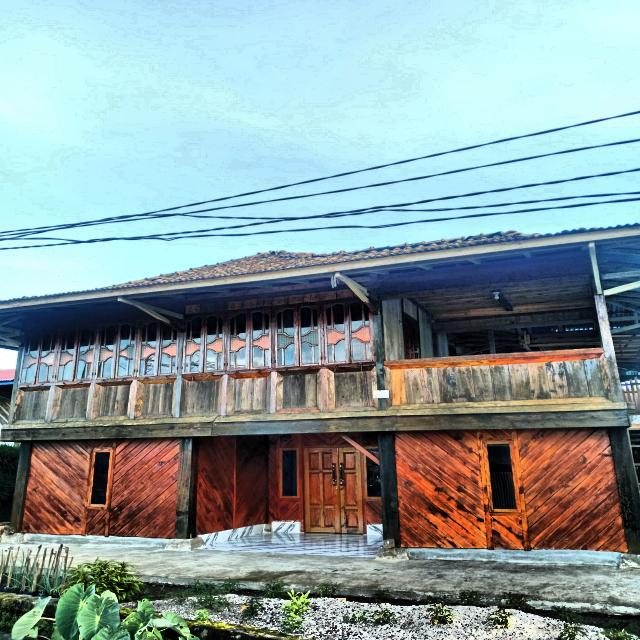column: (607, 428, 640, 553), (379, 431, 401, 547), (175, 437, 200, 539), (5, 441, 32, 534)
door: (303, 448, 341, 533), (339, 447, 363, 534)
ornamen: (383, 353, 613, 410), (327, 365, 379, 412), (275, 368, 322, 413), (226, 372, 272, 415), (179, 375, 224, 417), (134, 378, 177, 419), (91, 381, 132, 421), (51, 383, 91, 422), (12, 385, 51, 424)
roof: (1, 223, 640, 303)
wall: (394, 428, 629, 552), (181, 290, 379, 417), (13, 311, 179, 424), (21, 437, 180, 539), (196, 435, 266, 536)
window: (323, 302, 374, 364), (274, 305, 322, 368), (482, 440, 522, 512), (227, 309, 272, 371), (182, 312, 225, 374), (95, 322, 139, 380), (55, 325, 97, 382), (137, 320, 179, 377), (18, 329, 59, 385), (88, 449, 113, 507), (279, 448, 300, 498), (363, 453, 381, 499)
